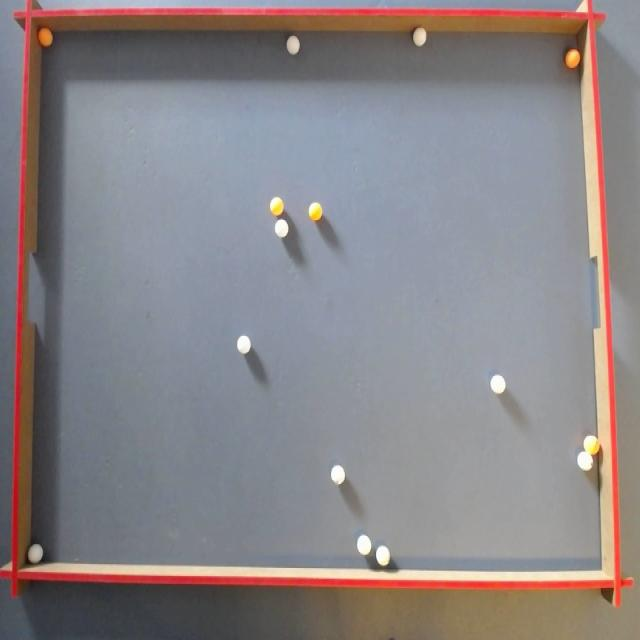orange_ball: (583, 435, 600, 456), (565, 48, 581, 68), (38, 29, 54, 48), (270, 196, 284, 216), (308, 202, 322, 220)
white_ball: (27, 542, 44, 564), (577, 452, 593, 472), (490, 374, 506, 394), (357, 535, 371, 556), (376, 545, 390, 566), (286, 35, 300, 55), (413, 26, 427, 46), (331, 465, 345, 485), (274, 218, 288, 238), (237, 335, 251, 354)
